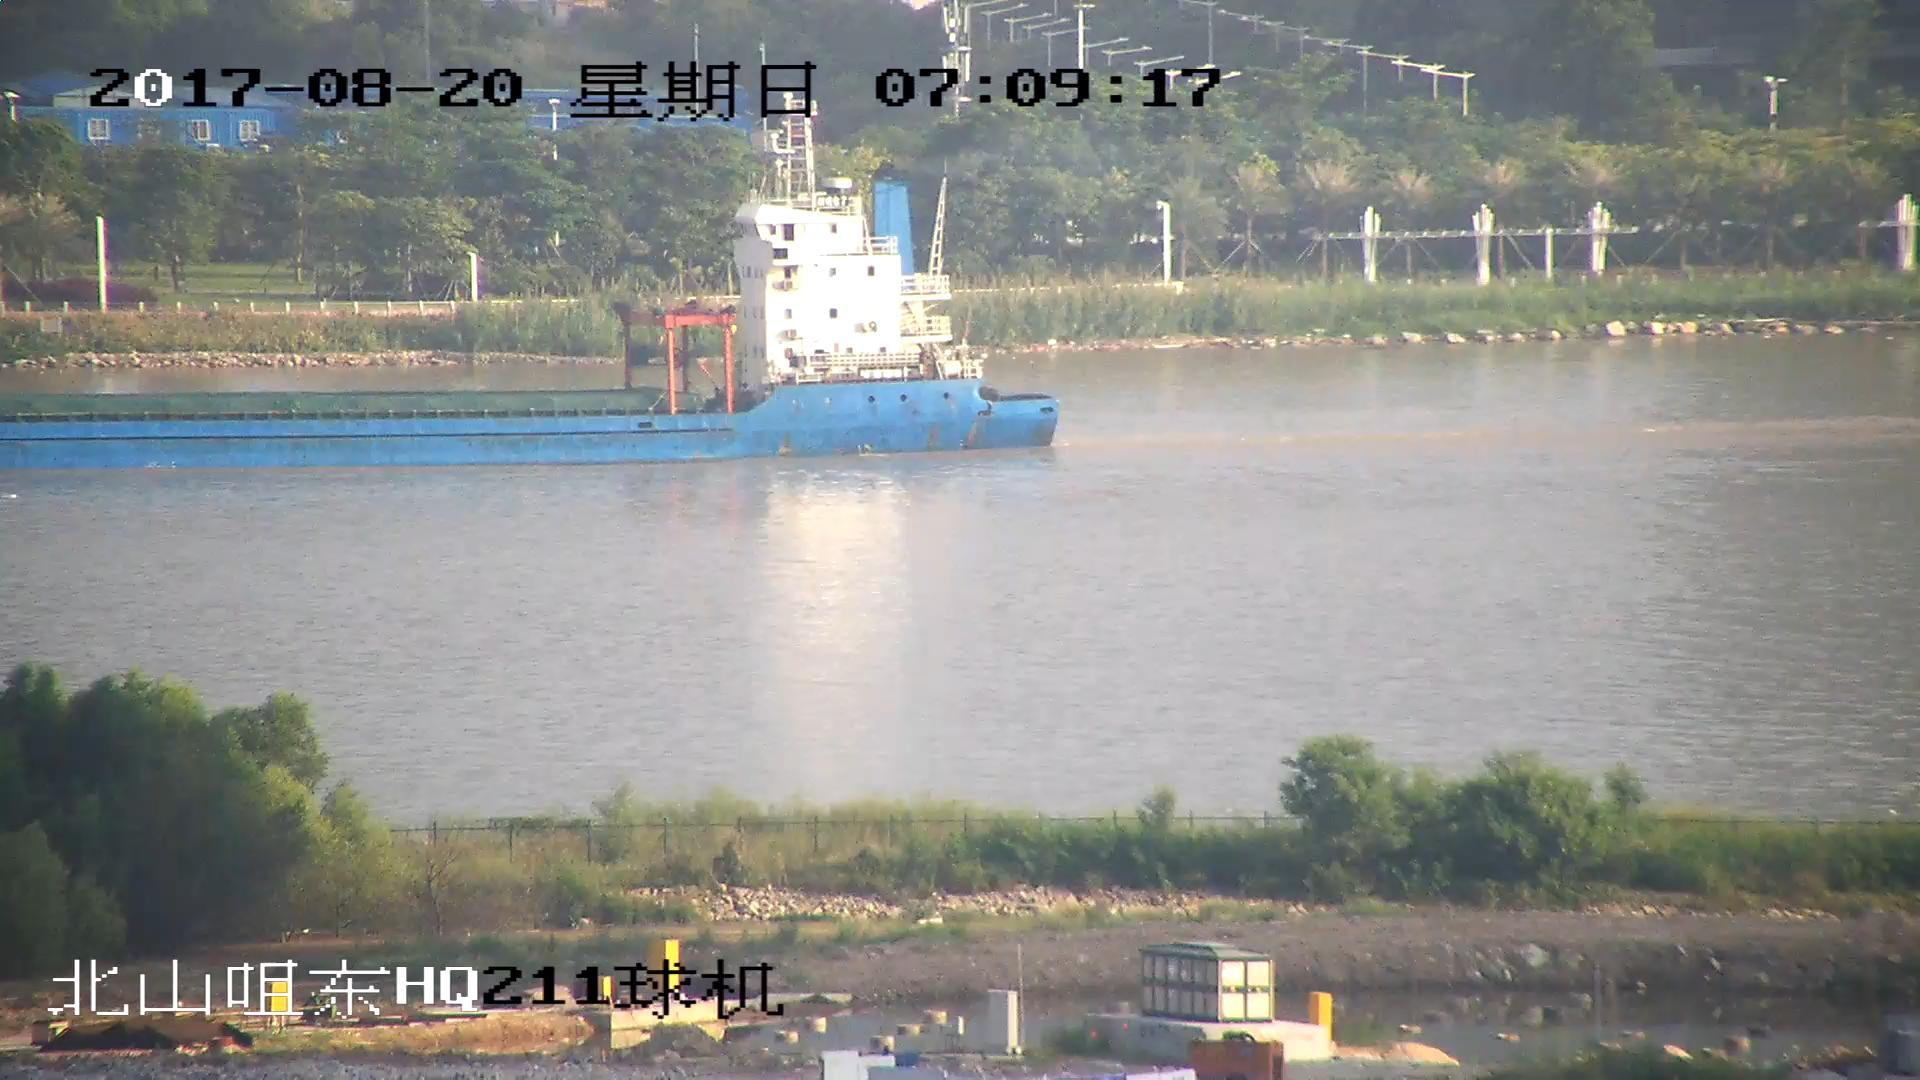Ship: (3, 141, 1068, 462)
